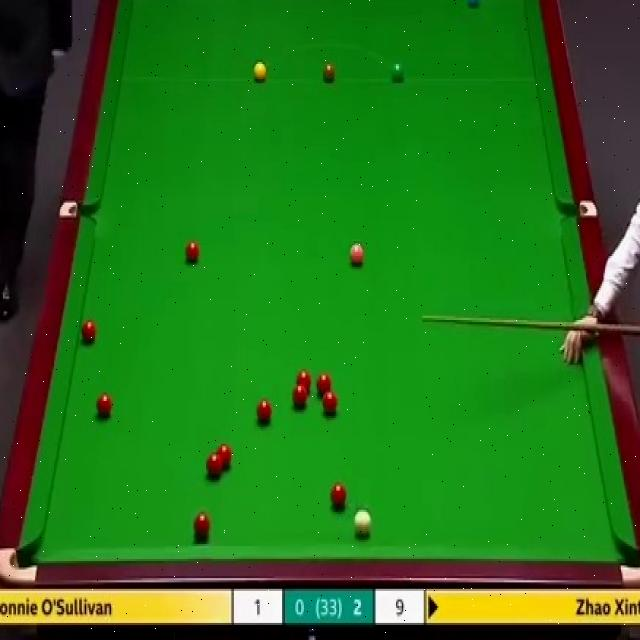blue-ball: (464, 0, 480, 11)
brown-ball: (322, 62, 337, 84)
green-ball: (389, 62, 403, 85)
pink-ball: (348, 239, 368, 268)
red-ball: (94, 389, 114, 421), (193, 513, 212, 542), (204, 453, 224, 480), (330, 483, 347, 512), (80, 320, 98, 347), (184, 239, 202, 264), (256, 401, 274, 426), (291, 385, 308, 410), (322, 390, 338, 415), (217, 443, 234, 466), (295, 370, 312, 392), (316, 374, 332, 394)
white-ball: (353, 508, 371, 536)
yellow-ball: (254, 61, 268, 84)
